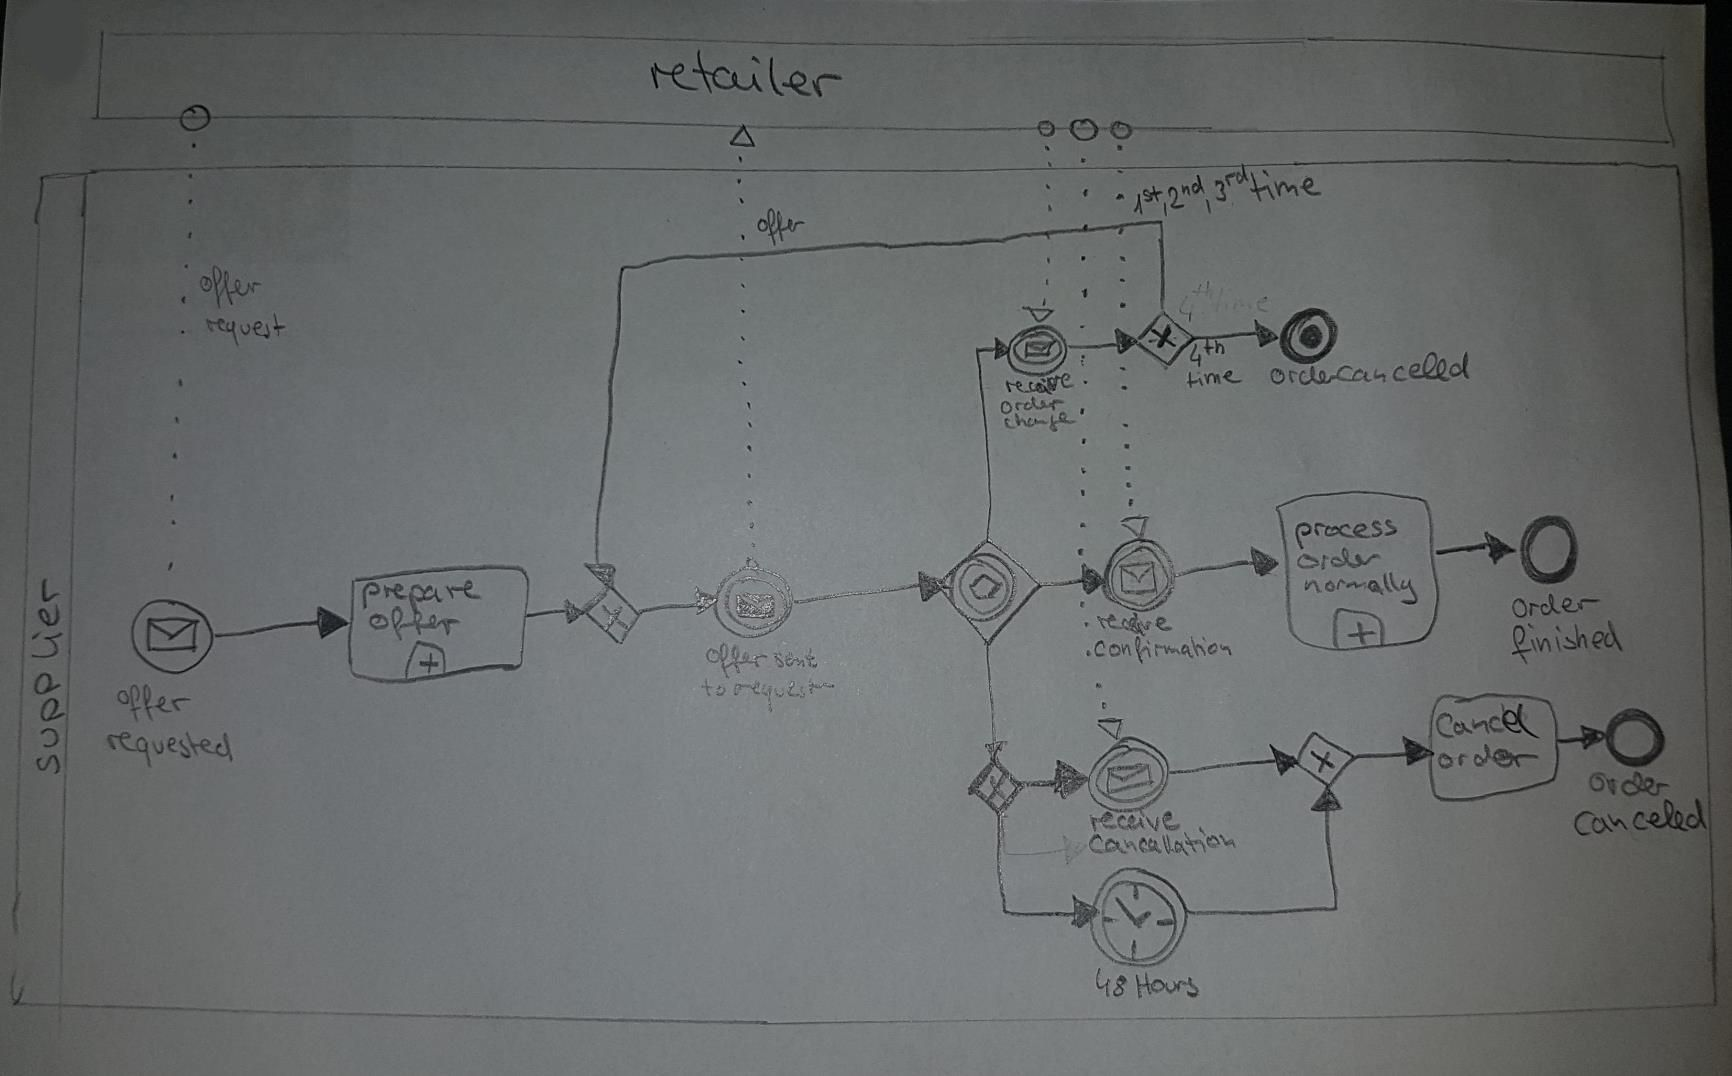1st: (1121, 179, 1157, 219)
2nd,: (1172, 174, 1204, 211)
3rd: (1216, 169, 1248, 206)
48: (1096, 969, 1129, 1000)
4th: (1186, 337, 1230, 364)
Cancel: (1434, 704, 1532, 743)
Cancellation: (1089, 828, 1239, 860)
Confirmation: (1092, 633, 1234, 664)
Hours: (1134, 971, 1203, 1000)
Order: (1513, 588, 1602, 622)
canceled: (1573, 801, 1708, 842), (1340, 351, 1473, 389)
change: (1002, 409, 1077, 431)
finished: (1506, 621, 1624, 663)
normally: (1302, 571, 1416, 598)
offer: (192, 268, 262, 310), (115, 683, 190, 718), (371, 610, 459, 637), (704, 645, 765, 672), (753, 208, 803, 240)
order: (1296, 543, 1384, 574), (1439, 746, 1537, 774), (1589, 769, 1672, 798), (1272, 359, 1337, 390), (1002, 395, 1064, 415)
prepare: (365, 576, 480, 606)
process: (1297, 514, 1398, 545)
receive: (1089, 808, 1186, 834), (1003, 371, 1077, 395), (1094, 614, 1172, 635)
request: (200, 312, 286, 343), (739, 676, 836, 703)
requested: (103, 730, 233, 764)
retailer: (646, 55, 842, 100)
sent: (769, 645, 820, 672)
supplier: (30, 579, 67, 774)
time: (1251, 166, 1322, 203), (1184, 366, 1246, 392)
to: (698, 679, 735, 703)
